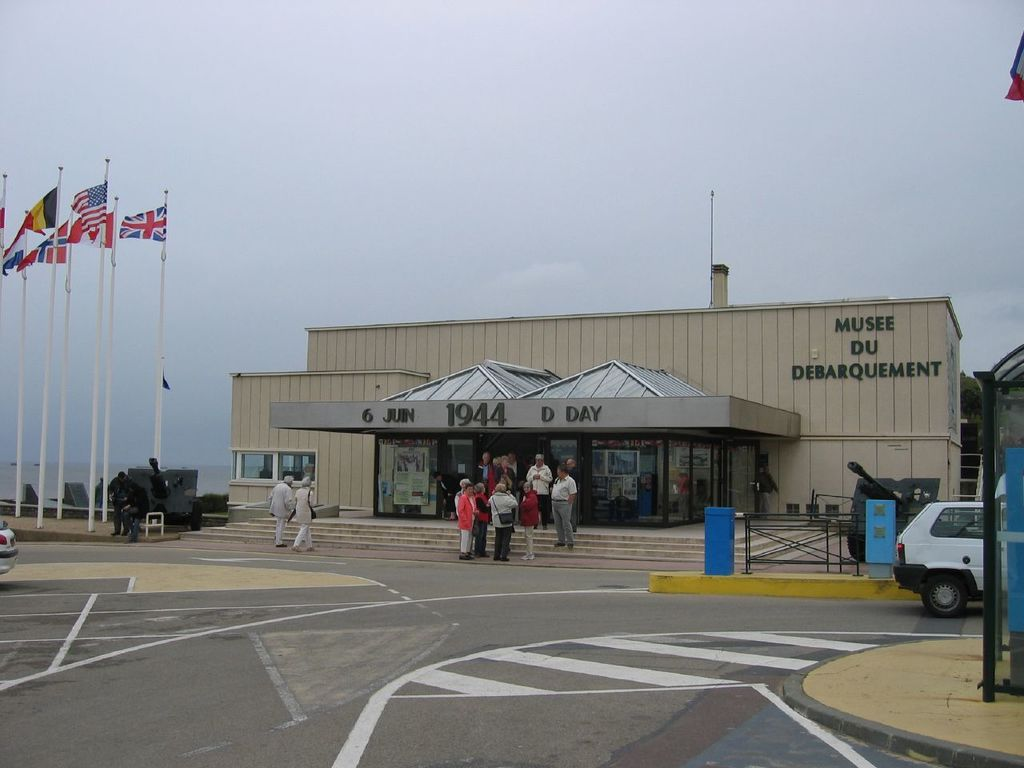Car: (892, 500, 1007, 620), (0, 516, 18, 574)
